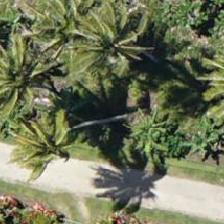coconut_tree: (65, 0, 155, 89), (0, 93, 85, 183), (18, 0, 108, 61), (0, 30, 59, 120)
